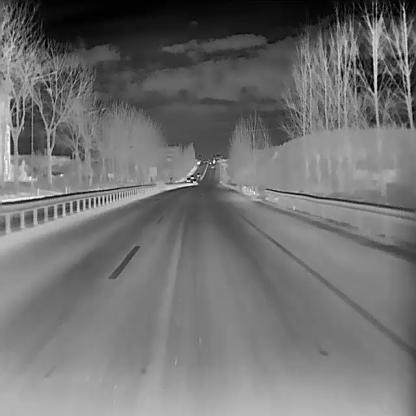car: (186, 176, 191, 182)
